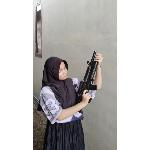Senapan: (73, 50, 106, 112)
